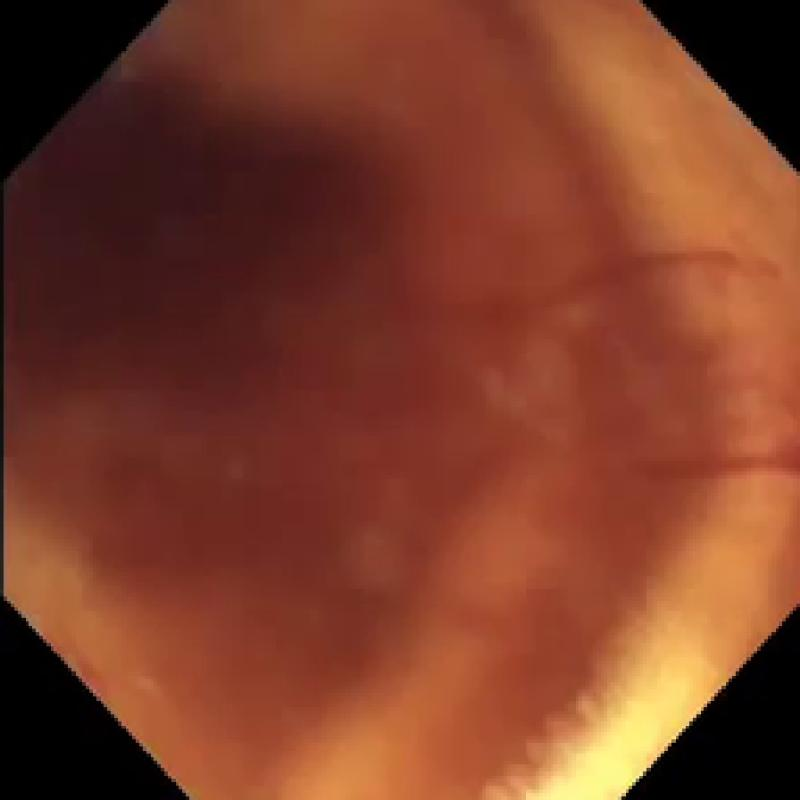bleeding: (3, 3, 800, 778)
